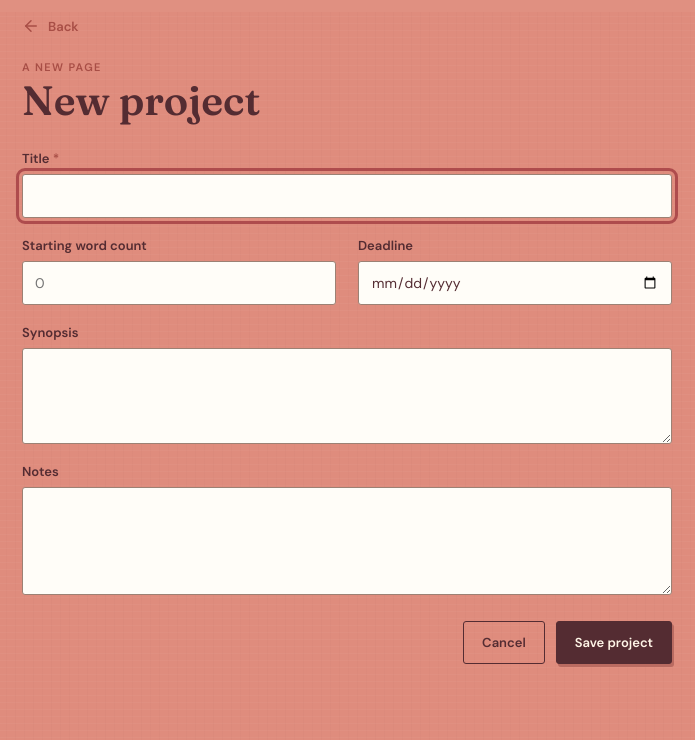
Test: ProjectForm › reports persistence failures without clearing form input
In the field labelled "Title *": (347, 196) [22,174,672,218], type "Keep this draft"
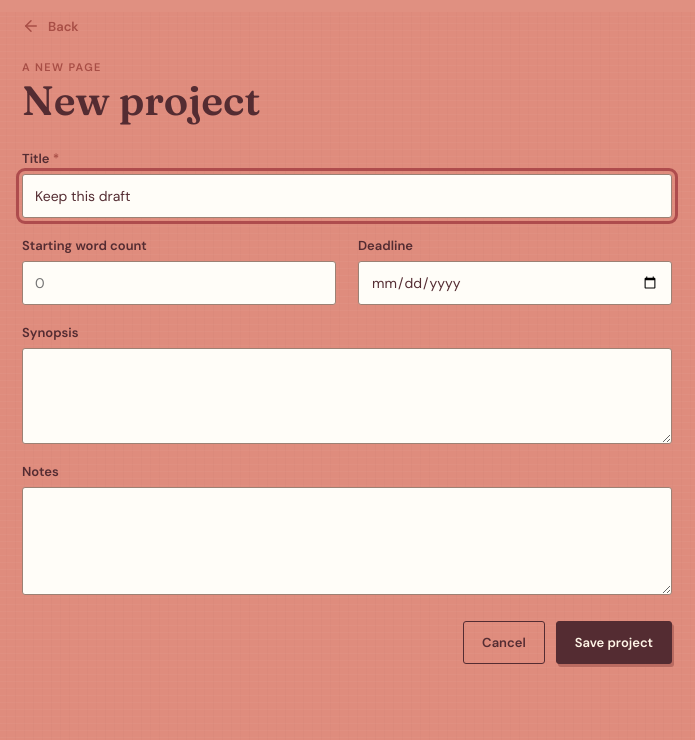
Click the button "Save project": (614, 642) [556,621,672,664]
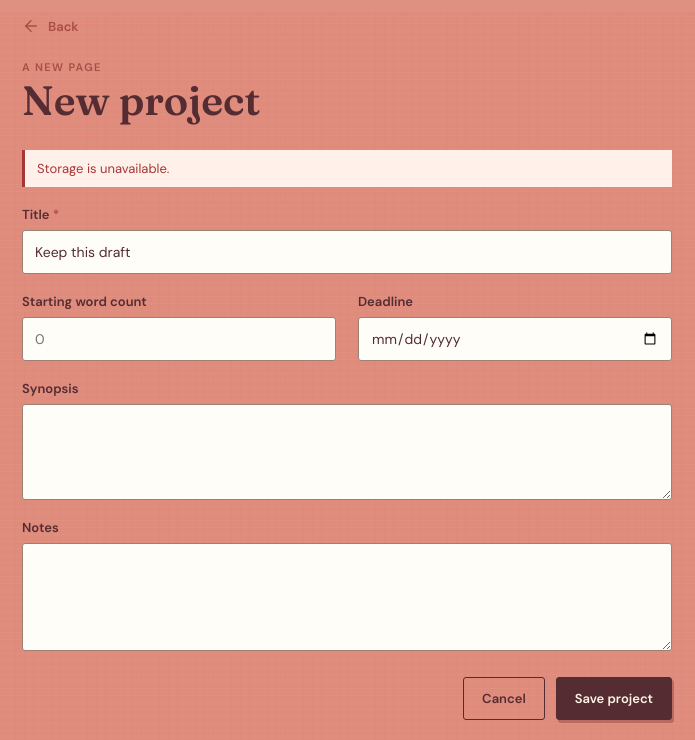
Check: the message reads "Storage is unavailable.", box [37,160,169,177]
